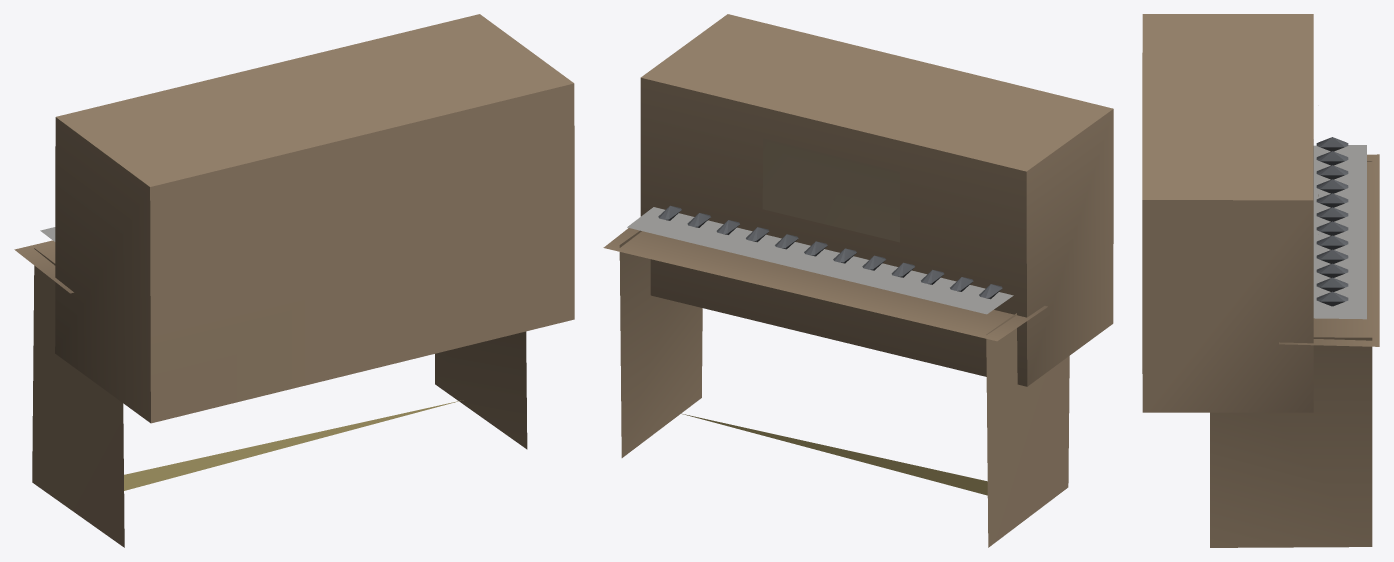
The model's file is furn_piano__walnut_low.glb.
3 views of the same model, side by side, from view 1: azimuth 30°, elevation 25°; view 2: azimuth 150°, elevation 25°; view 3: azimuth 270°, elevation 25° (orthographic). The views are drawn at different scales.
Size of the model in its own units: 1.42 by 1.23 by 0.7502.
